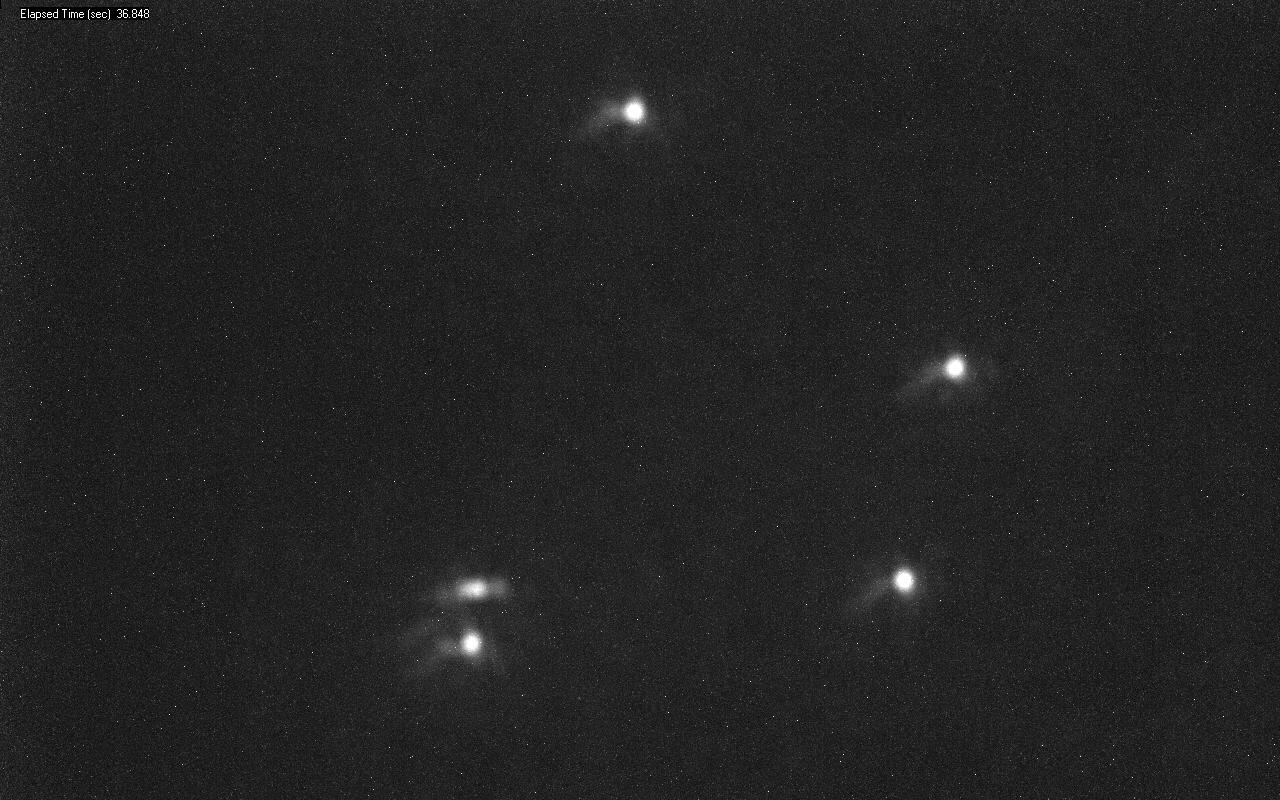Bead: (620, 100, 646, 125), (460, 630, 484, 656), (893, 568, 916, 594), (943, 357, 966, 381)
